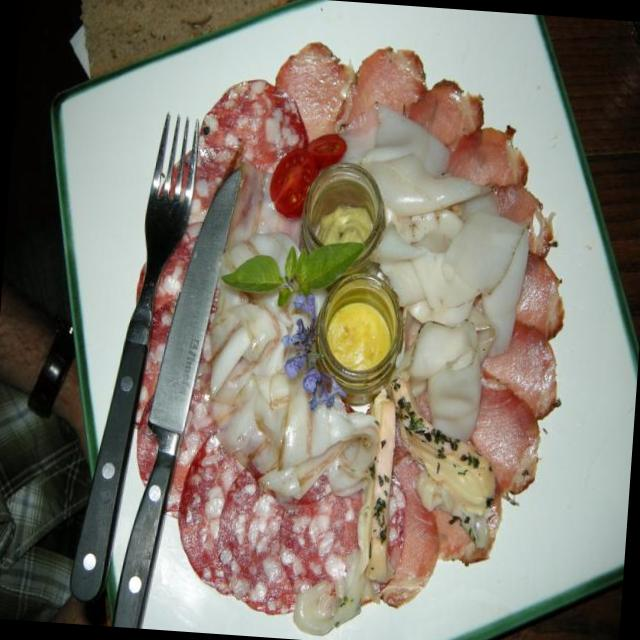Knife: (112, 170, 241, 628)
